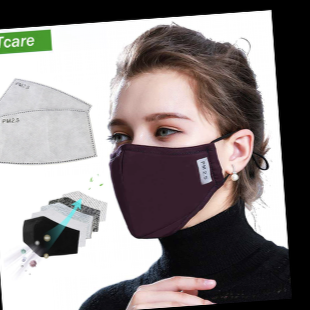with_mask: (108, 108, 225, 241)
